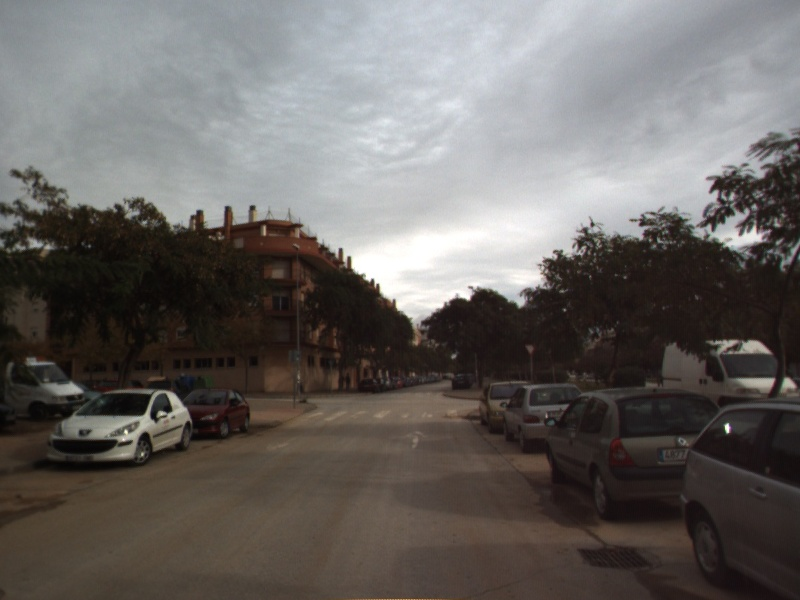STRAIGHT: (402, 428, 430, 451)
